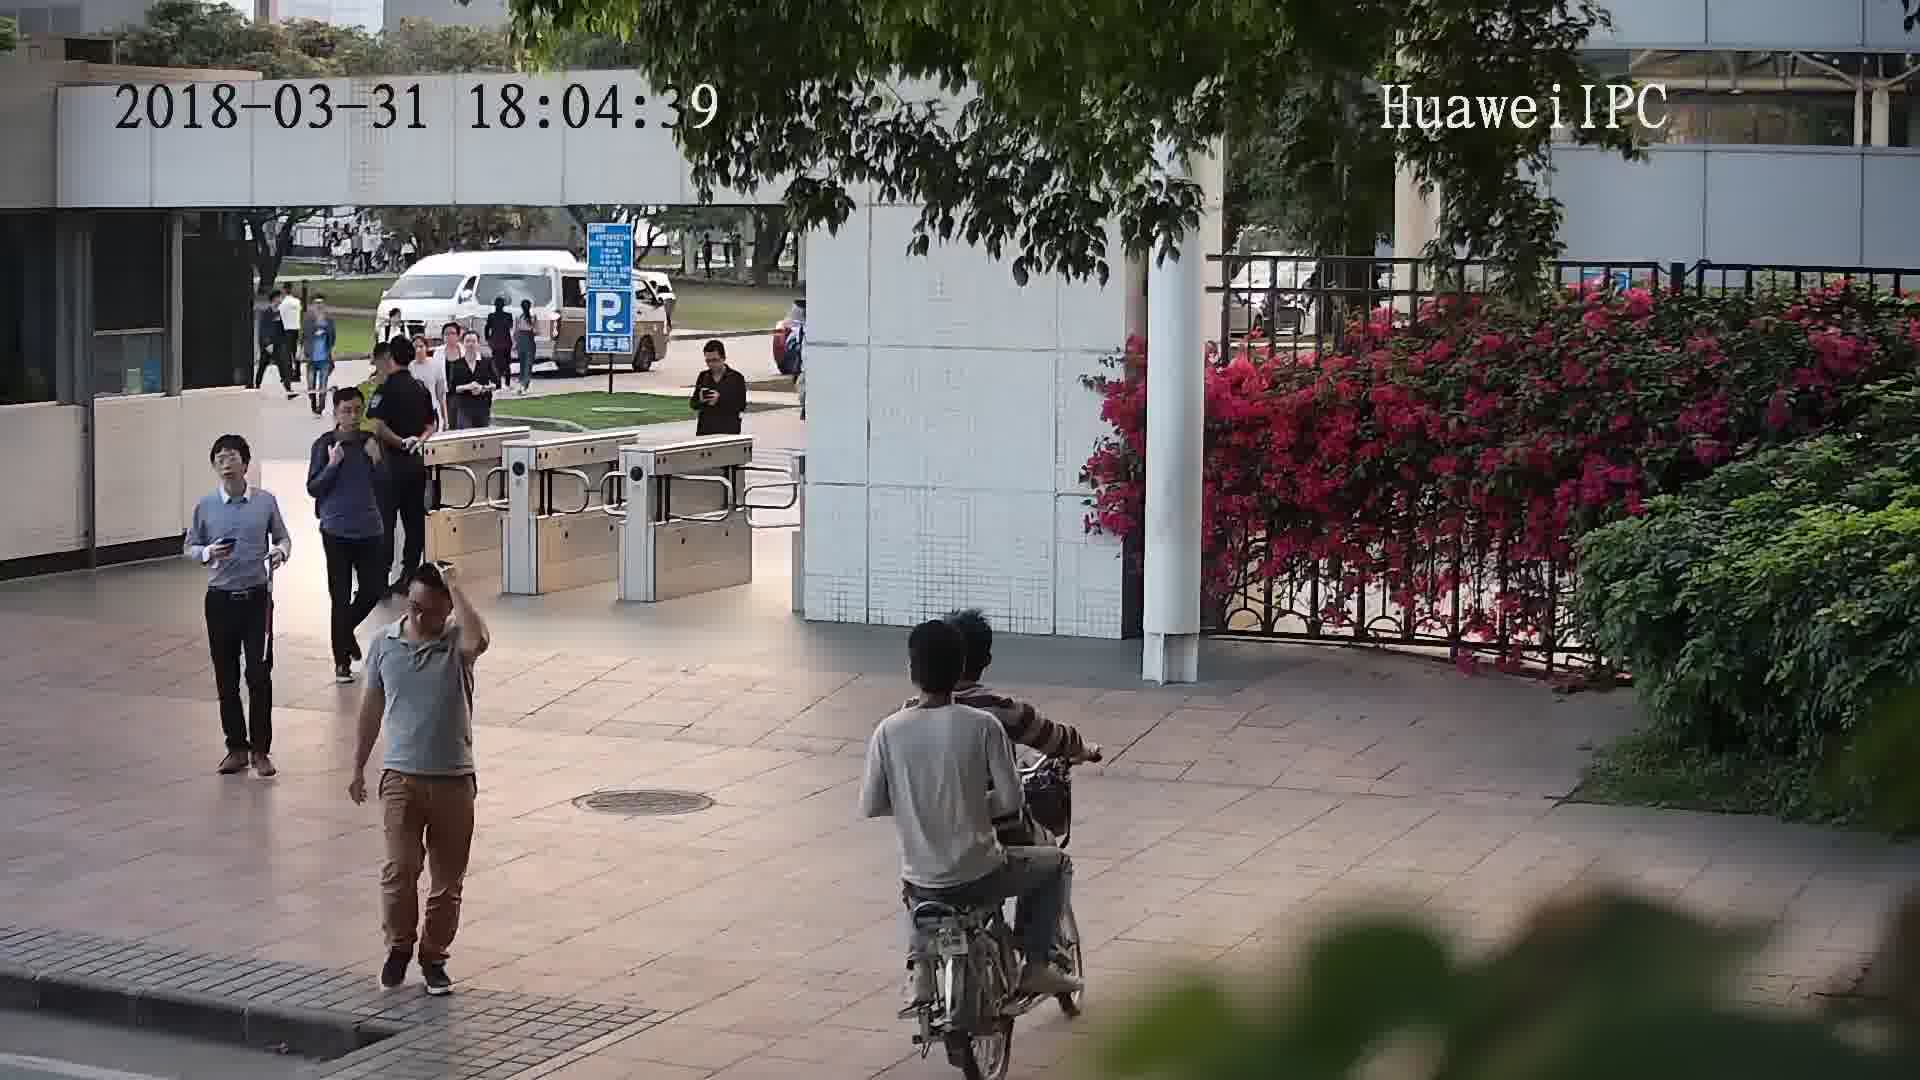face: (403, 582, 455, 634), (207, 447, 249, 486), (330, 393, 365, 433)
person: (871, 611, 1010, 761), (373, 561, 468, 664), (196, 430, 281, 518), (308, 386, 386, 457), (377, 336, 430, 398), (696, 336, 748, 387), (451, 323, 494, 372), (431, 319, 470, 371), (408, 333, 445, 380), (304, 289, 335, 323), (376, 306, 410, 335), (484, 290, 513, 323), (273, 279, 302, 313), (260, 287, 286, 321), (517, 293, 540, 327)
